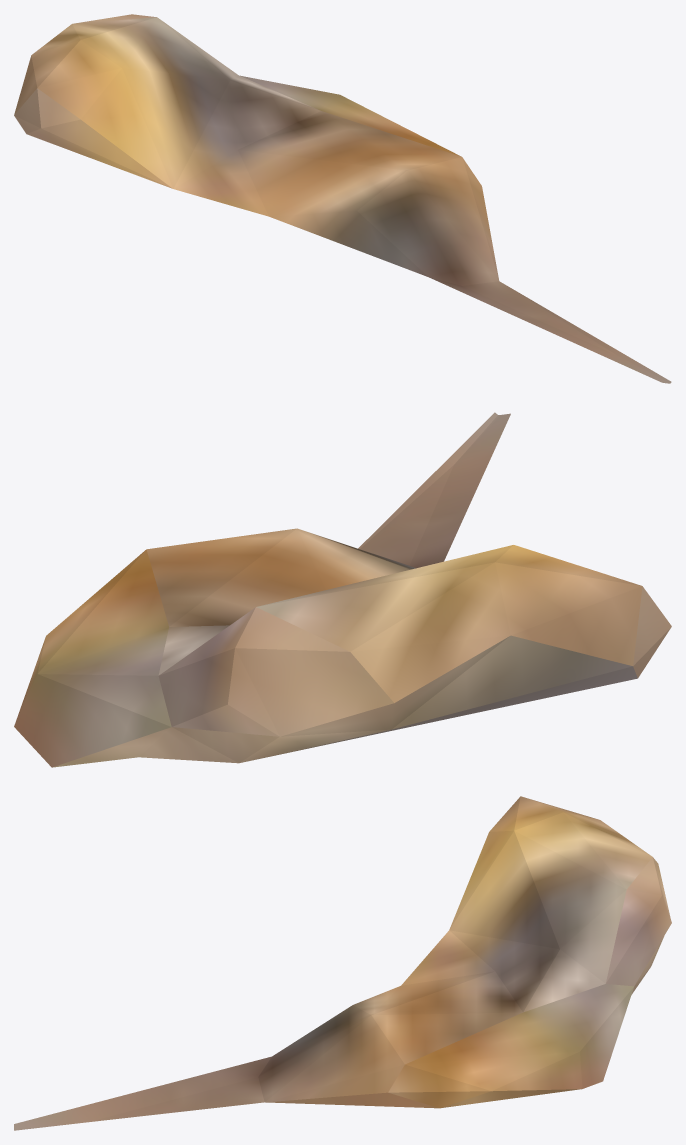
The model's file is Tile_+003_+007_L21_0005120.glb.
3 views of the same model, one above another, from view 1: azimuth 30°, elevation 25°; view 2: azimuth 150°, elevation 25°; view 3: azimuth 270°, elevation 25° (orthographic). The views are drawn at different scales.
Visible parts, largest first — view 1: rtc; view 2: rtc; view 3: rtc.
Part boxes in pixels (x1,y1,x2,y2): rtc: [14, 14, 671, 383]; rtc: [14, 412, 671, 767]; rtc: [14, 796, 671, 1130].
Bounding box in the file's own units: 1 × 0.4938 × 1.59.
Materials: 1 (1 with a texture image).
